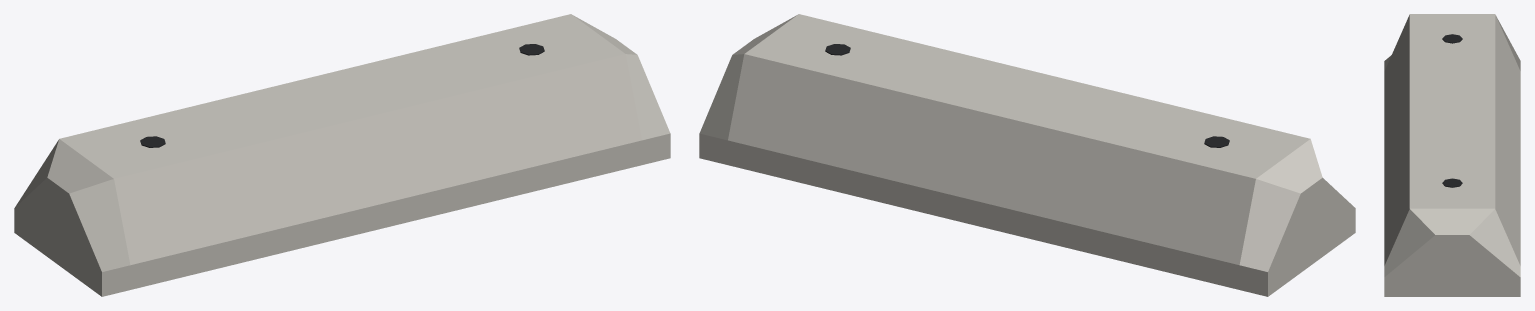
Rendered from SM_Street_WheelStop_Concrete_01.gltf.
3 renders of one model, left to right at view 1: azimuth 30°, elevation 25°; view 2: azimuth 150°, elevation 25°; view 3: azimuth 270°, elevation 25°, orthographic. The views are drawn at different scales.
Parts seen in each view (by area): view 1: SM_Street_WheelStop_Concrete_01; view 2: SM_Street_WheelStop_Concrete_01; view 3: SM_Street_WheelStop_Concrete_01.
Part boxes in pixels (x1,y1,x2,y2): SM_Street_WheelStop_Concrete_01: (14, 14, 670, 296); SM_Street_WheelStop_Concrete_01: (699, 14, 1355, 296); SM_Street_WheelStop_Concrete_01: (1384, 14, 1520, 296).
Bounding box in the file's own units: 0.6 × 0.101 × 0.16.
Materials: 1 (1 with a texture image).
